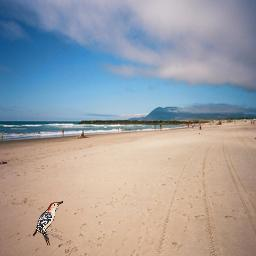Woodpecker: (32, 201, 63, 246)
